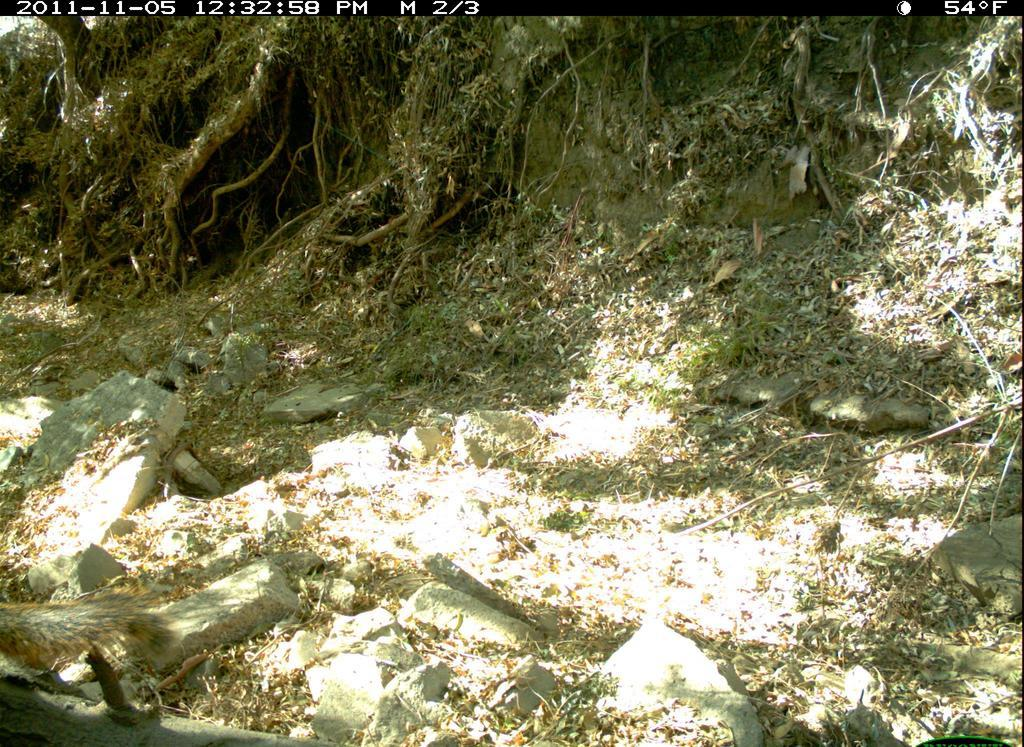squirrel: (6, 560, 191, 689)
